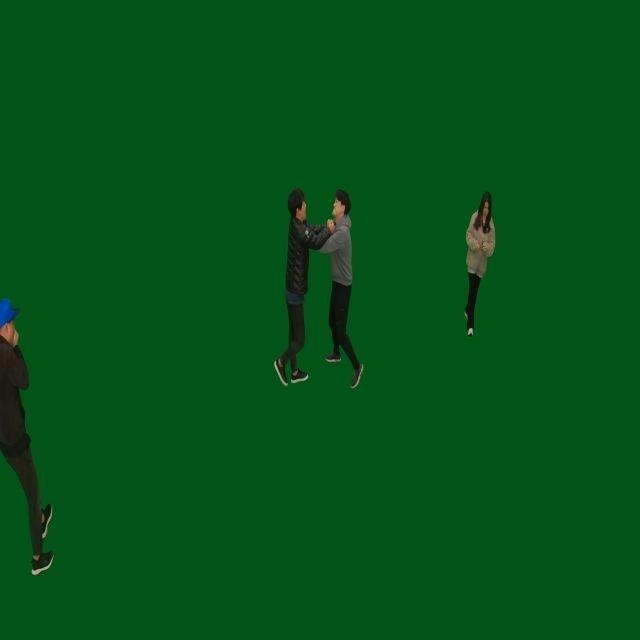fight: (273, 185, 364, 392)
non-fight: (0, 292, 58, 578), (462, 194, 498, 334)
